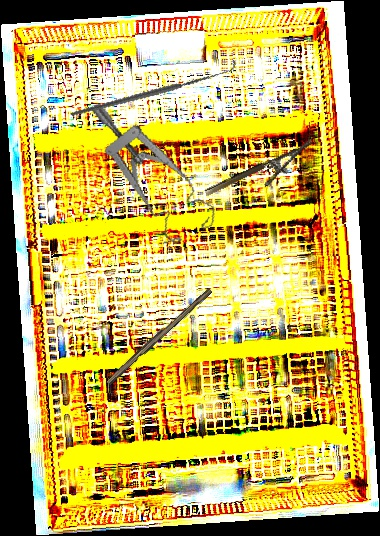Hook Surgical: (69, 23, 237, 154)
Needle Holder: (203, 139, 321, 211)
Scalpel Handle: (104, 284, 213, 388)
Speculum: (88, 79, 223, 258)
